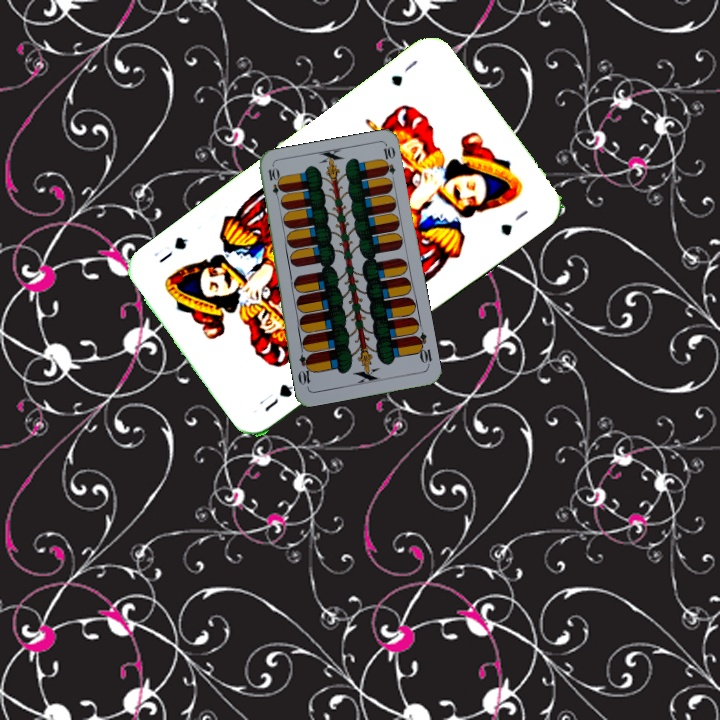E10: (411, 329, 434, 369), (264, 164, 284, 204)
GU: (260, 381, 297, 415), (386, 55, 421, 89)
